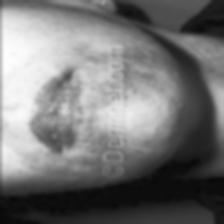Non-Cancerous Skin Condition: (6, 50, 156, 180)
